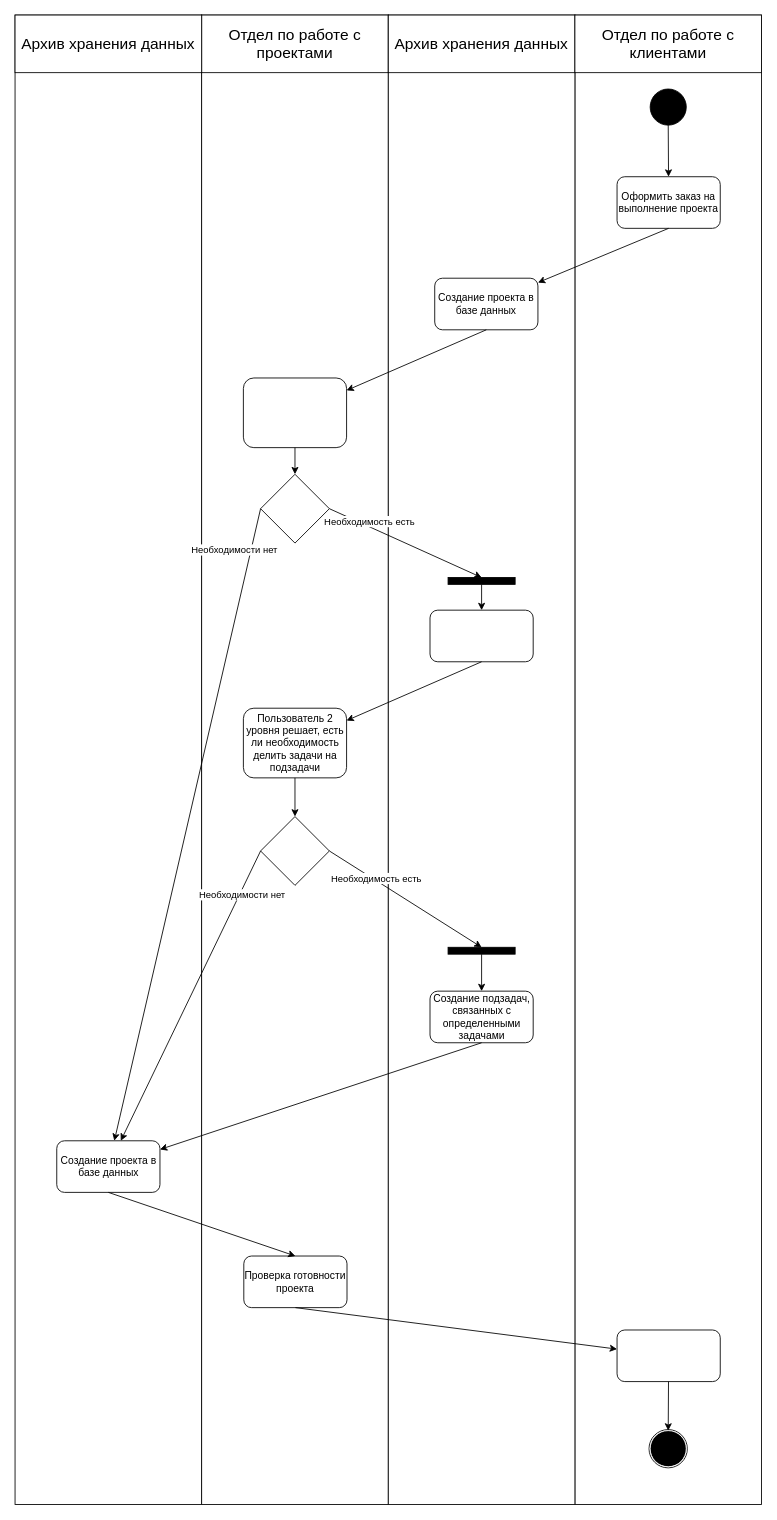
The diagram is 777 pixels wide and 1520 high, and some of its shapes have lost their labels. The centre of each missing label's shape, as x and y in pixels:
Закрытие заявки: (x=668, y=1355)
Пользователь 3 уровня решает, есть ли необходимость делить проект на задачи: (x=295, y=412)
Создание задач, связанных с определенным проектом: (x=481, y=635)
